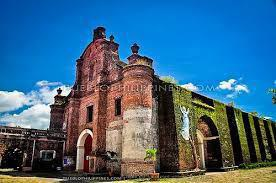santa_maria_church_santa_maria_ilocos_sur: (47, 23, 157, 181)
unfinished_paint: (103, 101, 163, 161)
water_damage_or_mold: (218, 104, 230, 144), (173, 87, 193, 107), (176, 110, 183, 136), (190, 112, 198, 134), (202, 107, 216, 119)
